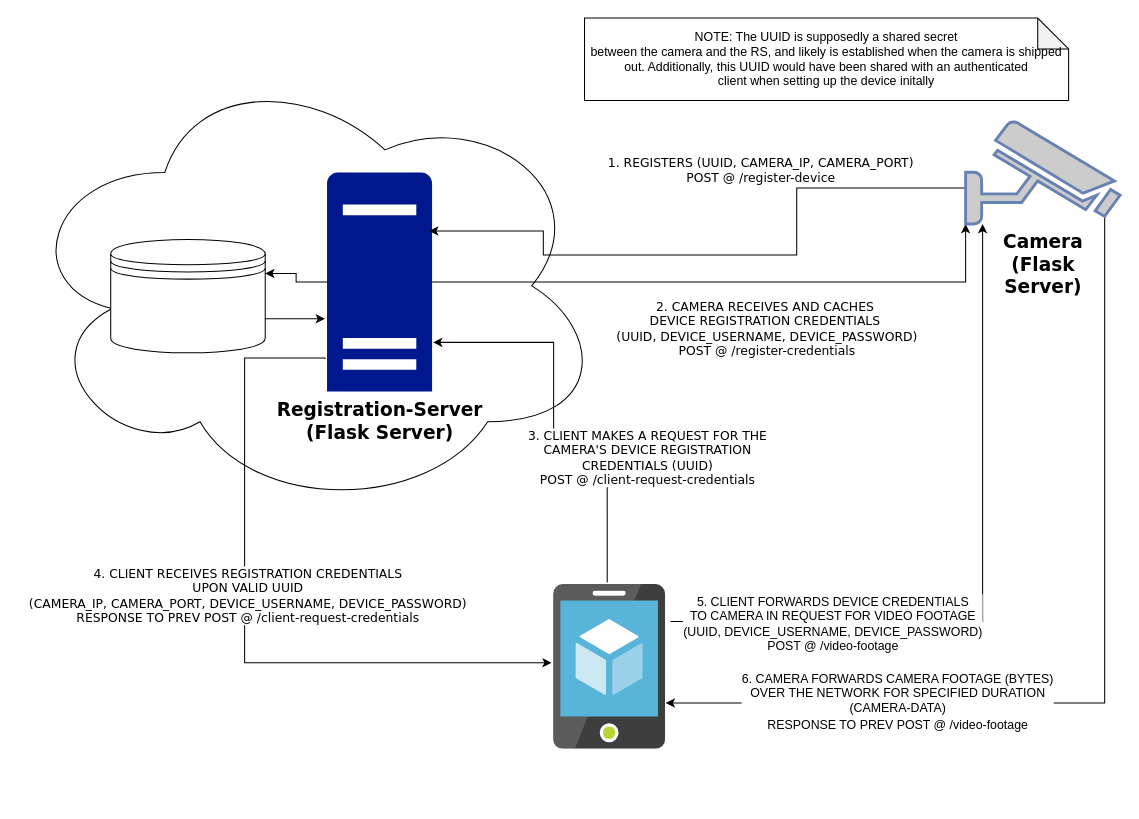
Image size: 1139x819. Some labels were removed from this diagram. Here are the shapes that lost their labels. From the top down, the centre of each, then its label:
At point 187,295: "rs-database.db (SQLLITE)".
At point 609,666: "Client (HTTP Client)".
